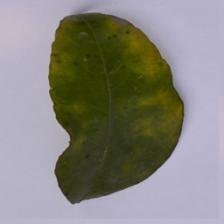black spot: (43, 111, 191, 211)
